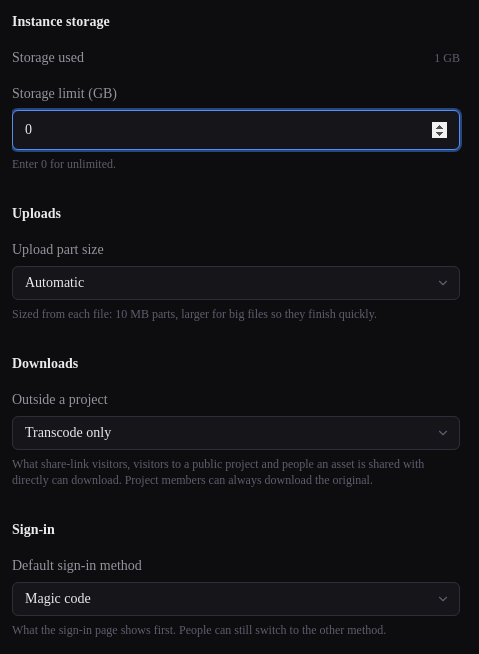
InstanceSettingsTab › storage limit › saves once when Enter is followed by blur
Replace the text in the number field labelled "Storage limit (GB)" with "10". click: point(236, 130)
box: [12,110,460,150]
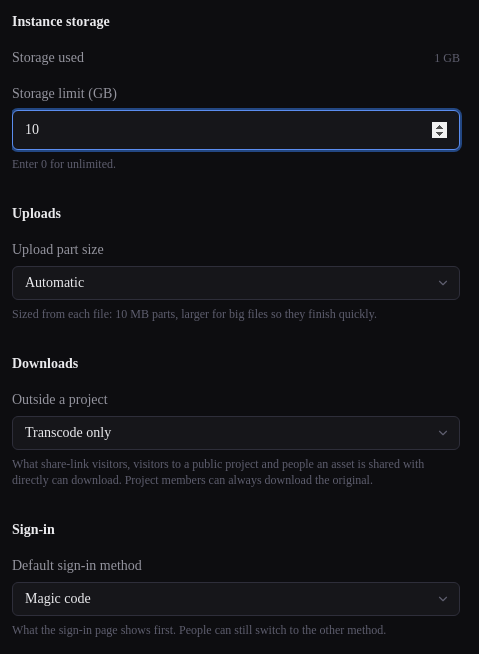
Press Enter in the number field labelled "Storage limit (GB)", box [12,110,460,150]
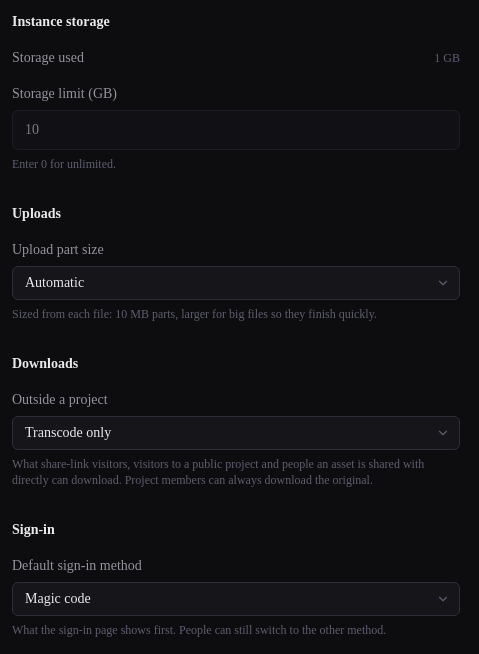
Leave the number field labelled "Storage limit (GB)", box [12,110,460,150]
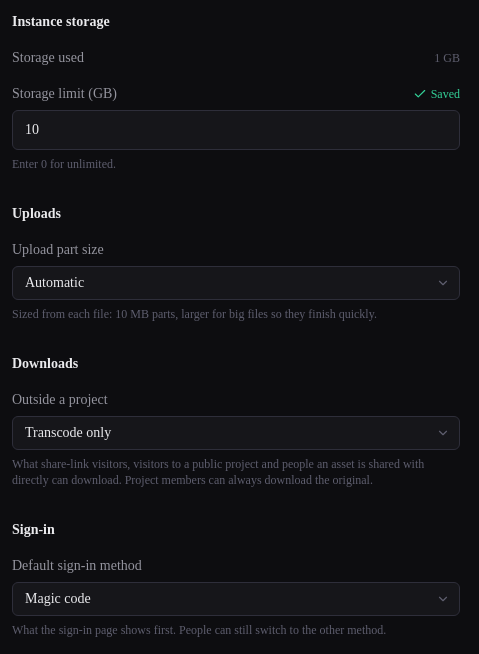
Expected: the text "Saved" is shown, [413,86,460,102]
